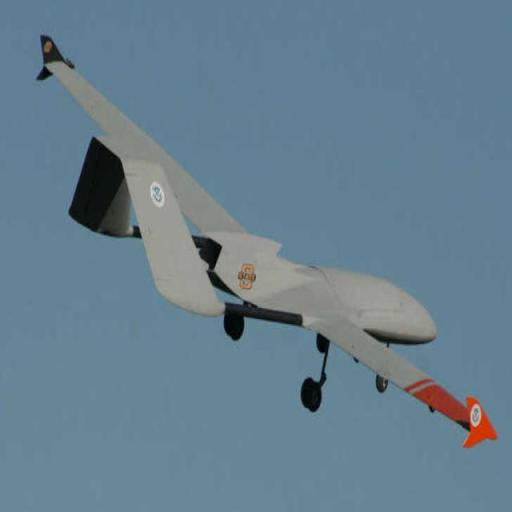uav: (31, 14, 506, 480)
